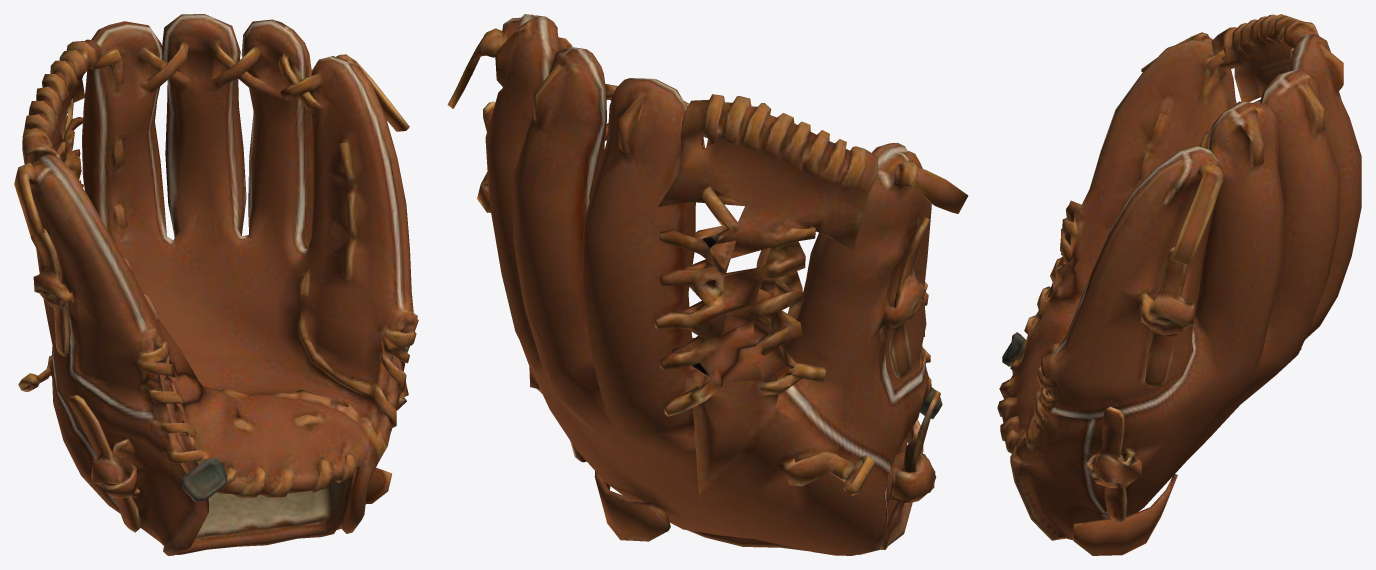
Rendered from glove.glb.
3 renders of one model, left to right at view 1: azimuth 30°, elevation 25°; view 2: azimuth 150°, elevation 25°; view 3: azimuth 270°, elevation 25°, orthographic. The views are drawn at different scales.
Parts seen in each view (by area): view 1: tripo_node_7dad7a60-9cfb-4061-8902-534f56c29578; view 2: tripo_node_7dad7a60-9cfb-4061-8902-534f56c29578; view 3: tripo_node_7dad7a60-9cfb-4061-8902-534f56c29578.
Part boxes in pixels (x1,y1,x2,y2): tripo_node_7dad7a60-9cfb-4061-8902-534f56c29578: (14, 14, 418, 555); tripo_node_7dad7a60-9cfb-4061-8902-534f56c29578: (447, 14, 968, 555); tripo_node_7dad7a60-9cfb-4061-8902-534f56c29578: (997, 14, 1361, 555).
Size of the model in its own units: 0.8745 by 0.9779 by 0.7023.
1 material, 1 textured.
